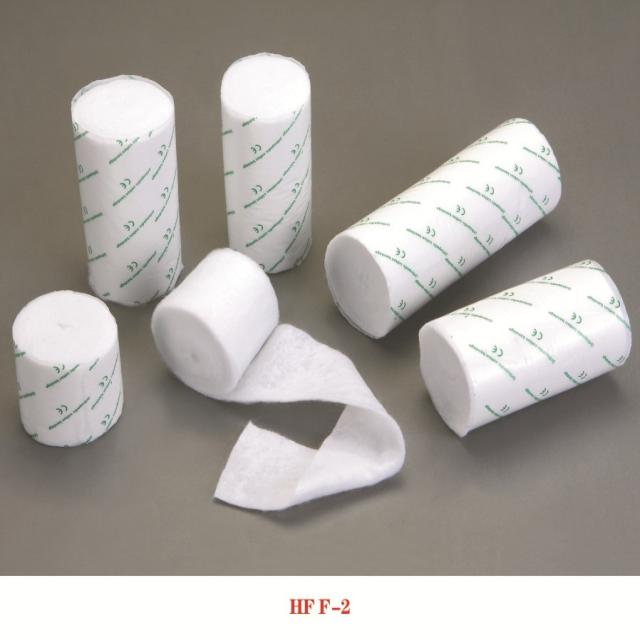B3: (321, 102, 574, 352), (397, 243, 640, 448), (64, 62, 206, 316), (2, 280, 148, 465), (205, 43, 320, 277), (140, 246, 302, 409)
